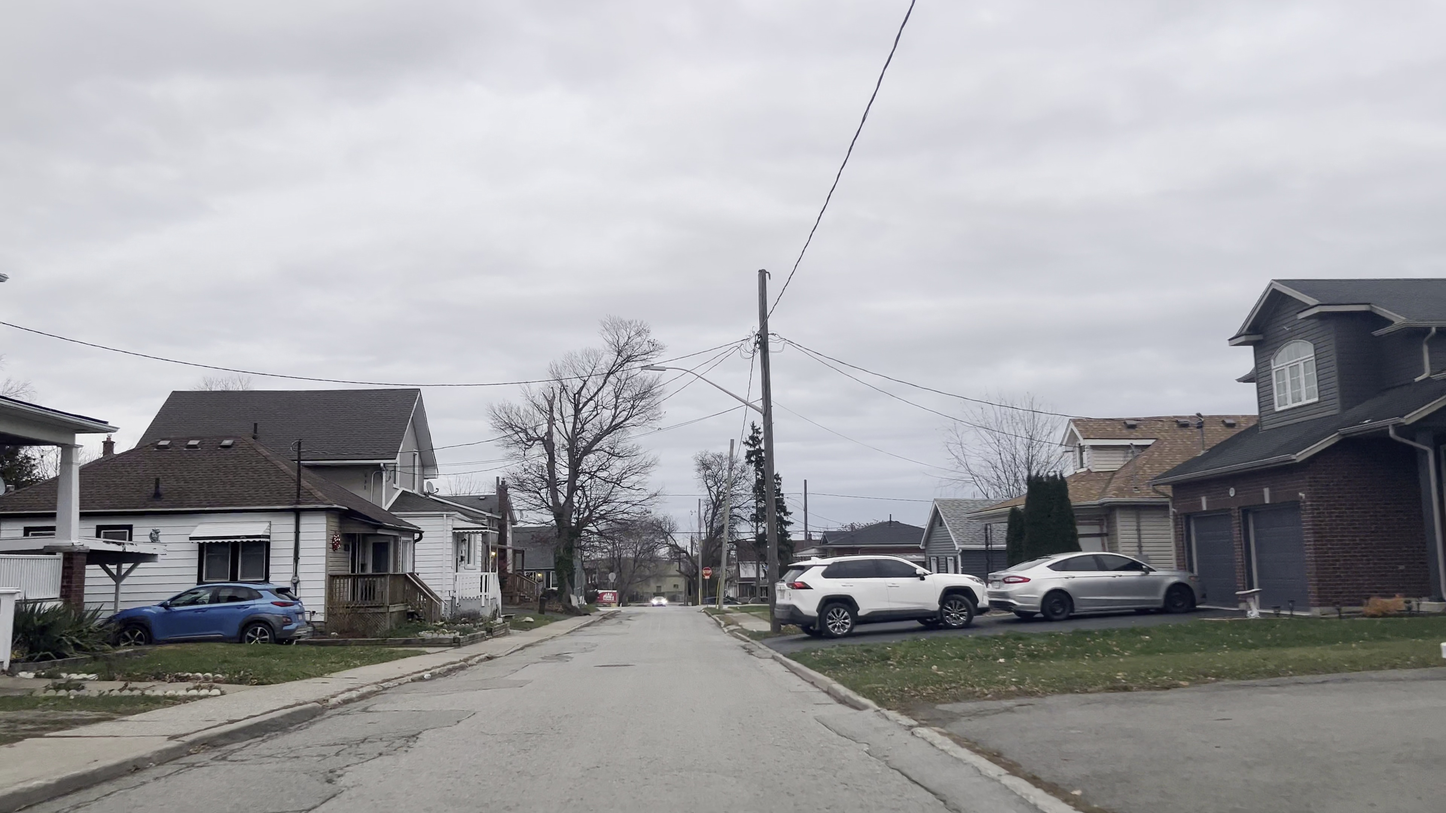cracks: (308, 720, 428, 780), (299, 773, 359, 813), (528, 639, 591, 671)
